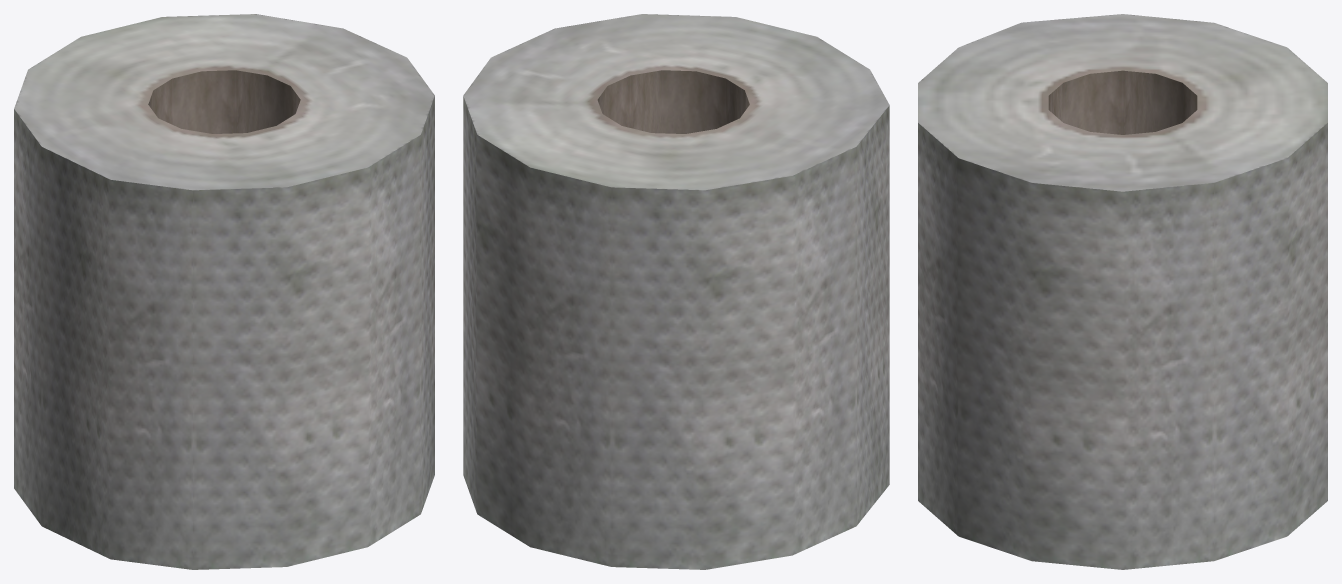
File: toilet_toilet_paper.dae
The picture shows the model from 3 angles, left to right: view 1: azimuth 30°, elevation 25°; view 2: azimuth 150°, elevation 25°; view 3: azimuth 270°, elevation 25°; orthographic projection.
Visible parts, largest first — view 1: toiletpaper; view 2: toiletpaper; view 3: toiletpaper.
Boxes of the visible parts, x1,y1,x2,y2 form: toiletpaper: (14, 14, 434, 569); toiletpaper: (463, 14, 889, 569); toiletpaper: (918, 14, 1327, 569).
Size of what is drawn, in the model's own units: 0.1773 by 0.176 by 0.1729.
